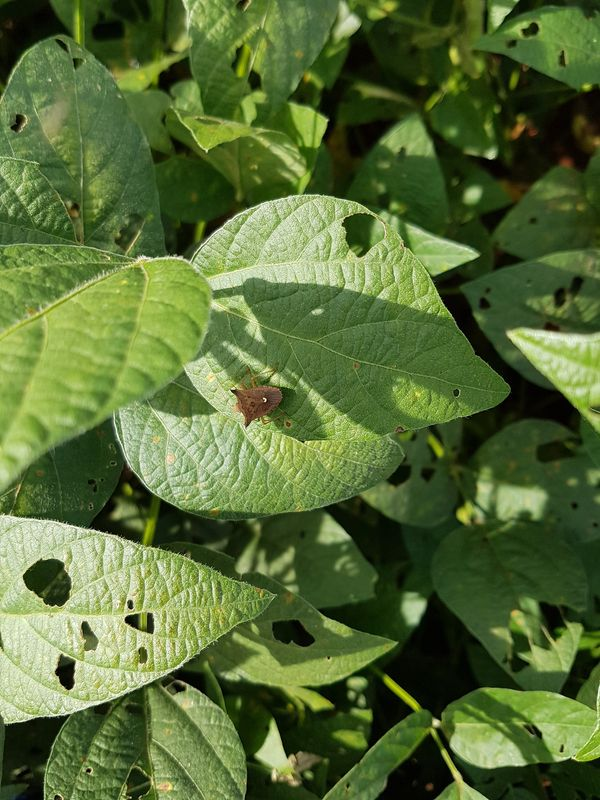Euschistus_heros_adulto: (218, 360, 293, 438)
